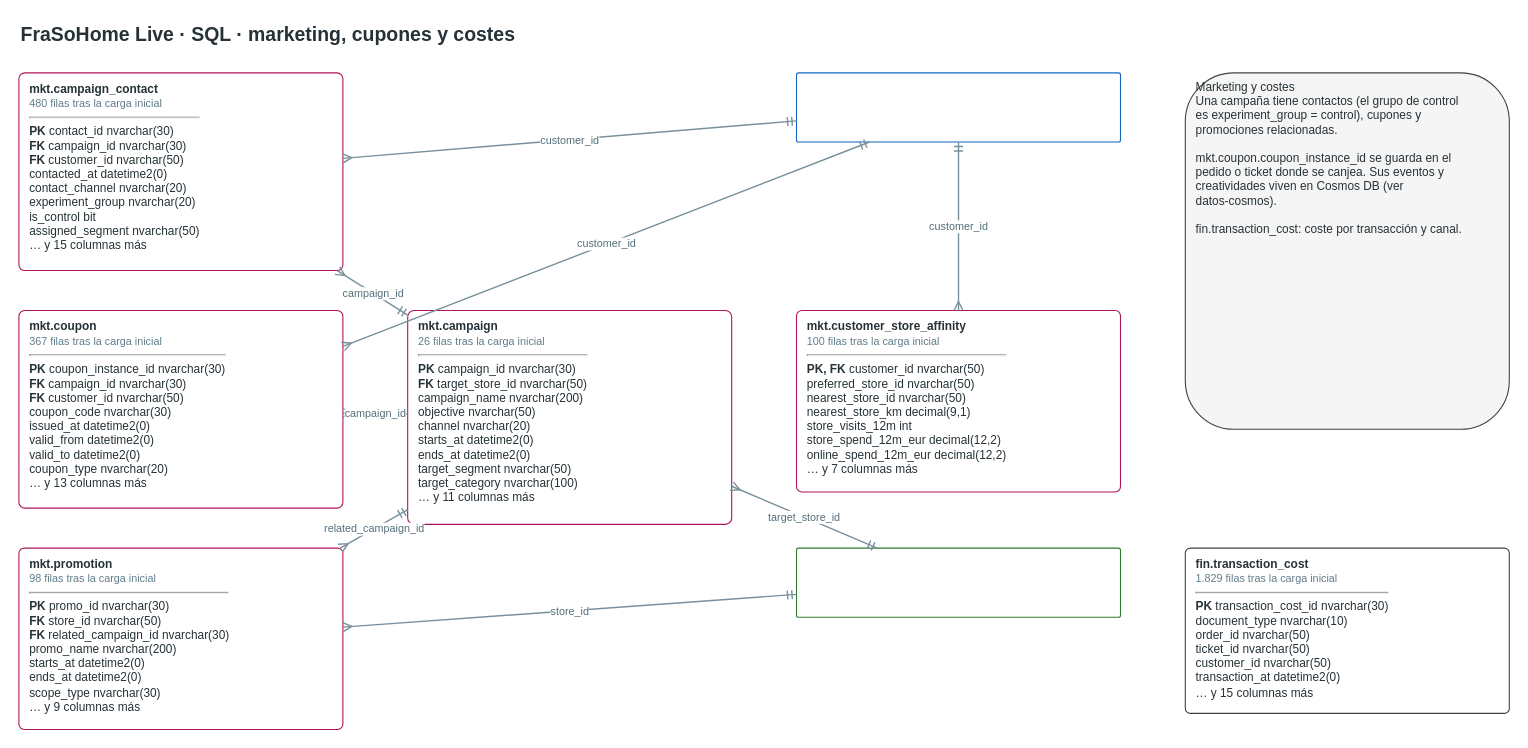
Some shapes in this 1528 by 748 pixel diagram are drawn without their labels. Each missing label, with the centre of its shape:
"crm.customer PK customer_id nvarchar(50) clientes (ver ventas)" belongs at point 957,107.
"store.store PK store_id nvarchar(50) tiendas (ver ventas)" belongs at point 957,582.
